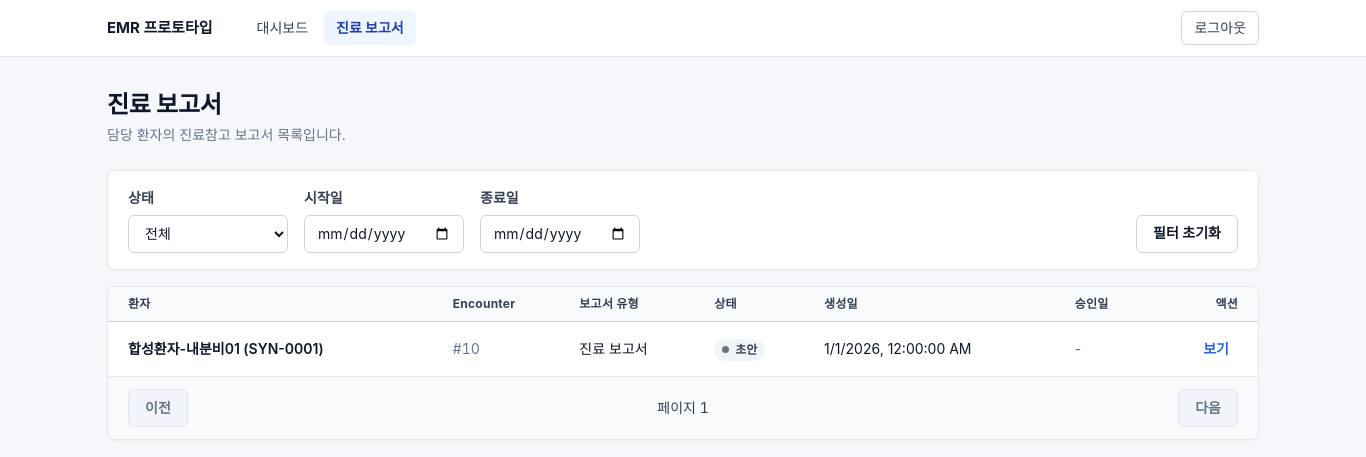
Scenario: DoctorReportsPage › shows a distinct empty message when a filter yields no results
Expected: the table is shown, x1=108 y1=287 x2=1258 y2=376
Select "반려됨" in the dropdown labelled "상태" at [208, 234], box x1=128 y1=215 x2=288 y2=253
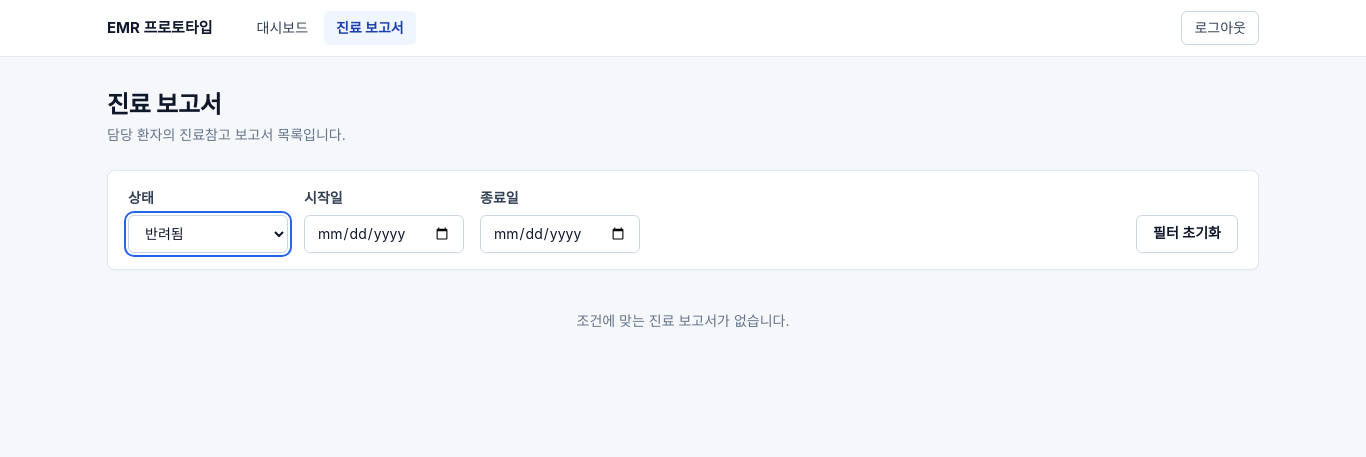
Expected: the text "조건에 맞는 진료 보고서가 없습니다." is shown, x1=576 y1=312 x2=790 y2=329
